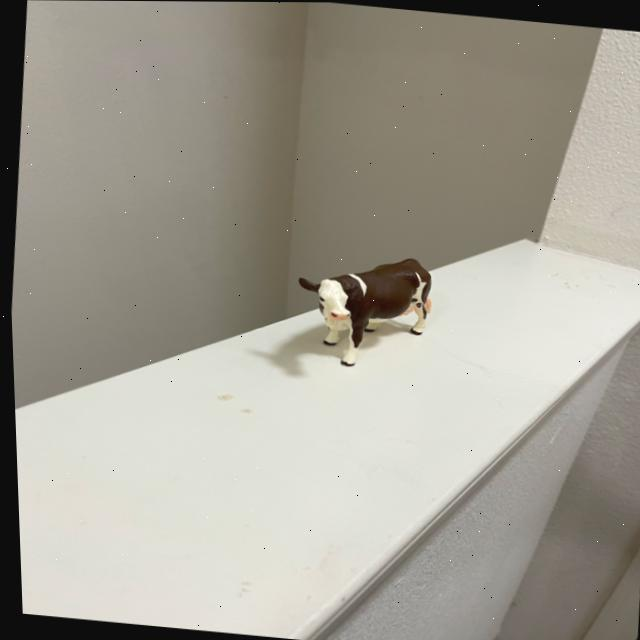cow: (295, 235, 447, 372)
